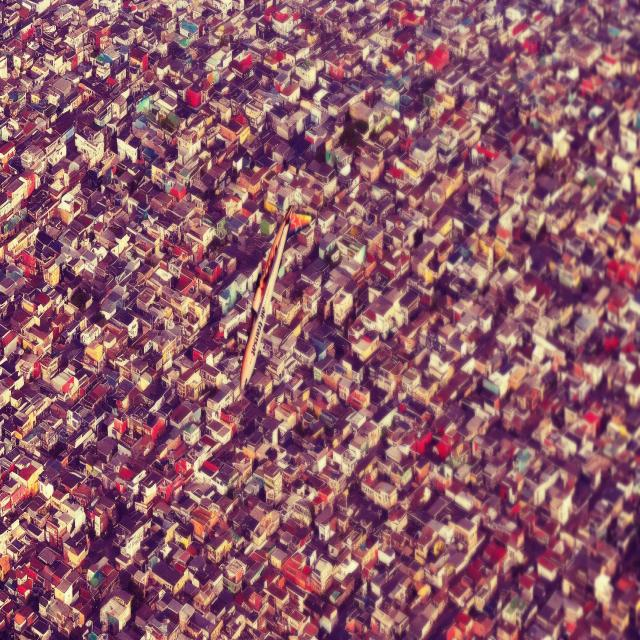airplane: (238, 203, 312, 395)
